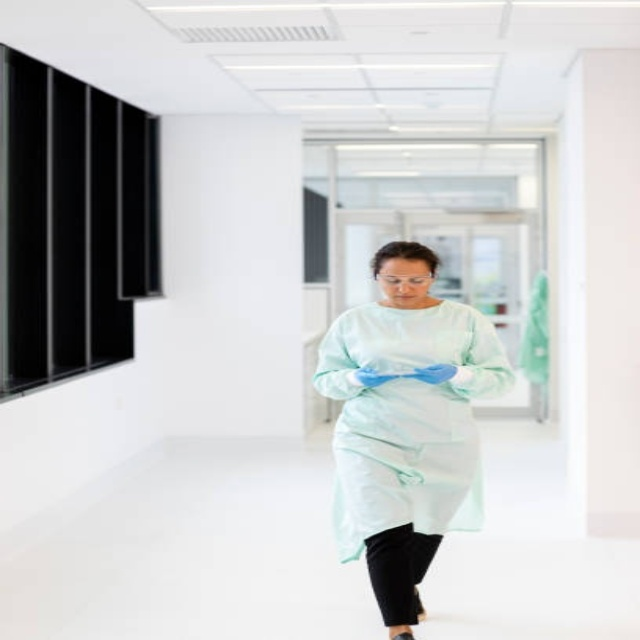Gafas: (377, 273, 435, 286)
Guantes: (408, 363, 459, 385), (351, 367, 407, 387)
Sin_mascara: (384, 290, 427, 304)
